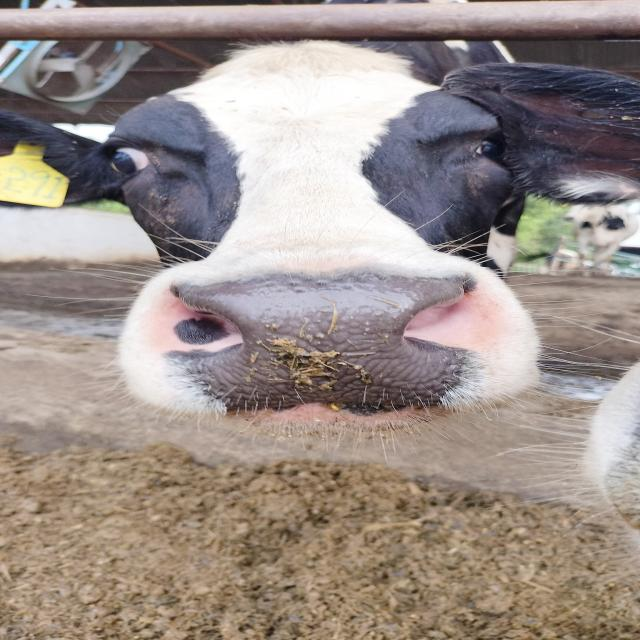muzzles: (140, 264, 506, 424)
